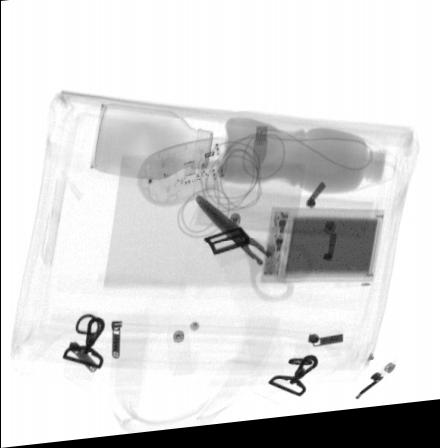Powerbank: (263, 213, 386, 289)
Scissors: (195, 197, 315, 309)
